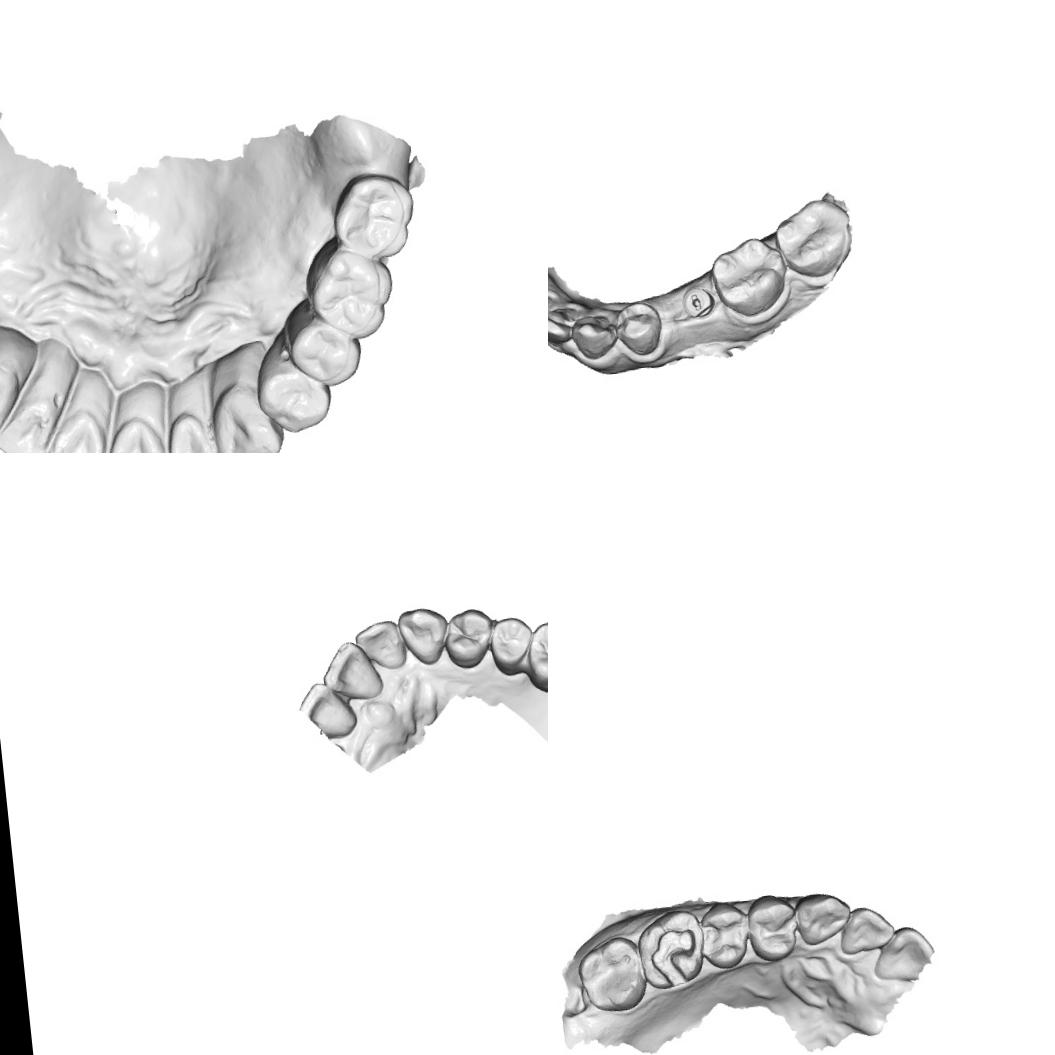canine: (205, 381, 291, 453), (792, 888, 856, 950), (395, 603, 452, 669), (568, 311, 620, 364), (0, 358, 26, 449)
implant_minus: (679, 284, 717, 323)
incisor: (317, 636, 387, 704), (295, 679, 361, 742), (869, 924, 937, 985), (26, 408, 109, 453), (0, 396, 64, 453), (89, 414, 176, 453), (836, 903, 898, 957), (352, 617, 409, 673), (156, 407, 224, 453), (548, 304, 579, 348)
inlay: (645, 925, 702, 991)
molar: (296, 242, 401, 348), (325, 170, 419, 265), (770, 194, 858, 282), (707, 232, 793, 322), (574, 932, 650, 1018), (522, 617, 548, 698)
premolar: (253, 358, 336, 438), (285, 318, 365, 393), (742, 891, 802, 966), (696, 898, 756, 972), (440, 604, 495, 672), (611, 298, 666, 359), (486, 613, 535, 679)
